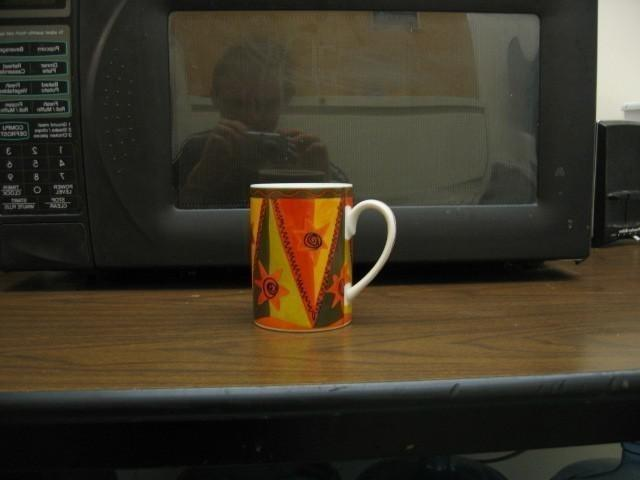cup-handle: (245, 179, 396, 332)
